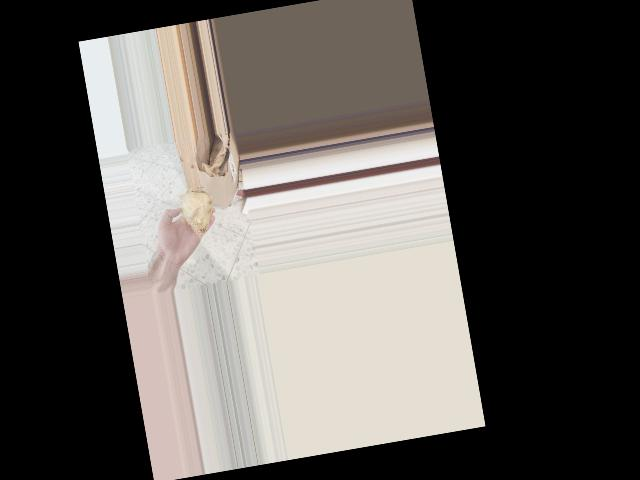onion: (171, 184, 219, 241)
